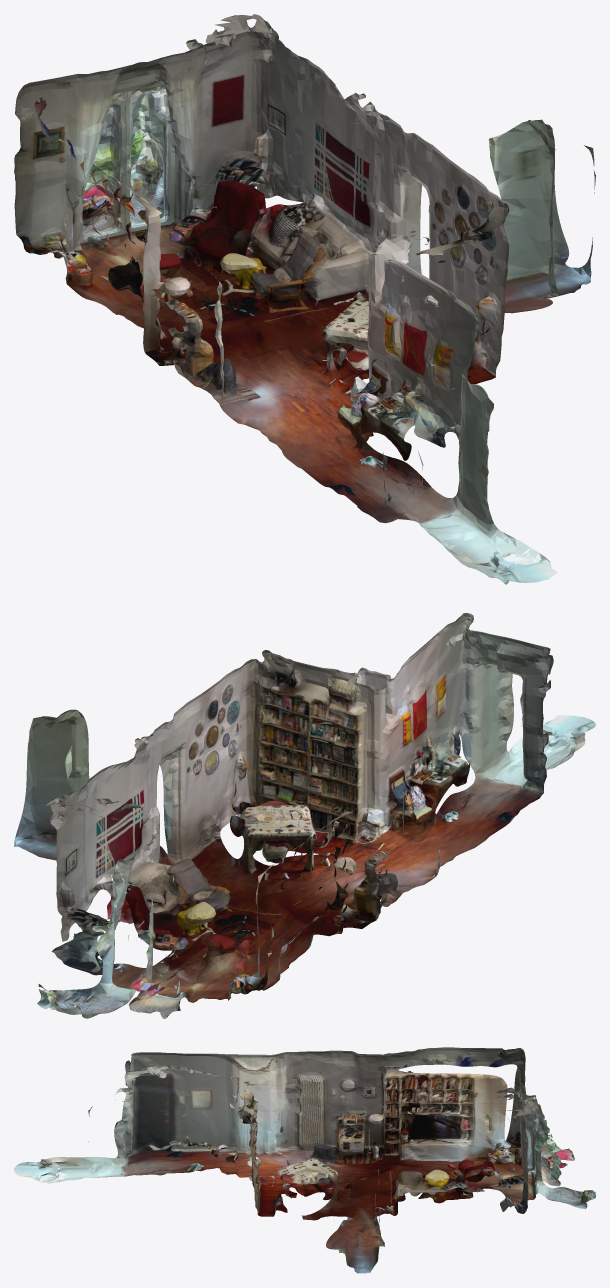
The model's file is scan.glb.
3 renders of one model, top to bottom at view 1: azimuth 30°, elevation 25°; view 2: azimuth 150°, elevation 25°; view 3: azimuth 270°, elevation 25°, orthographic. The views are drawn at different scales.
Size of the model in its own units: 7.26 by 3.27 by 14.88.
2 materials, 2 textured.
